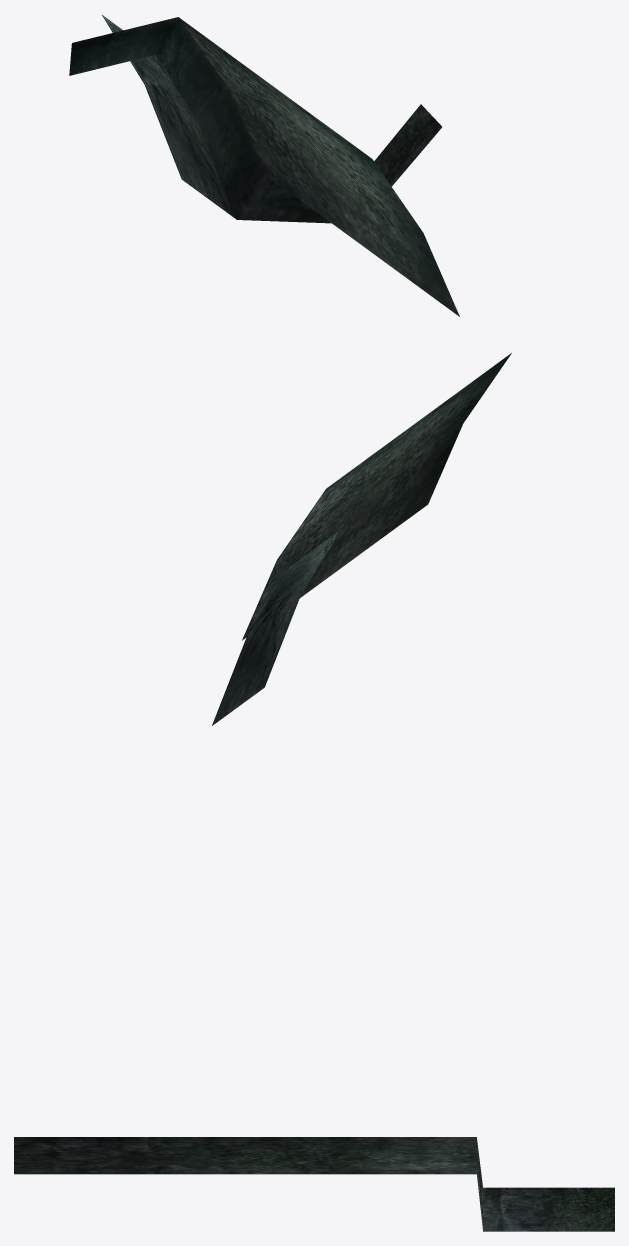
3 views of the same model, one above another, from view 1: azimuth 30°, elevation 25°; view 2: azimuth 150°, elevation 25°; view 3: azimuth 270°, elevation 25° (orthographic). The views are drawn at different scales.
Visible parts, largest first — view 1: model_Object42; view 2: model_Object42; view 3: model_Object42.
Part boxes in pixels (x1,y1,x2,y2): model_Object42: [69, 15, 459, 316]; model_Object42: [212, 353, 511, 725]; model_Object42: [14, 1137, 614, 1231].
Bounding box in the file's own units: 2.83 × 1.84 × 3.31.
1 material, 1 textured.
